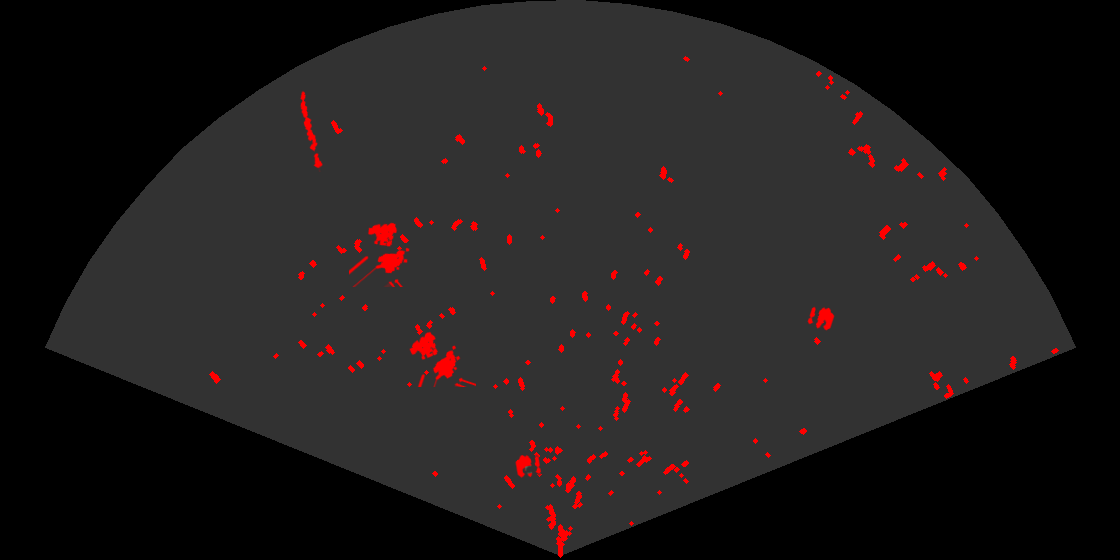ball: (806, 305, 836, 332), (514, 453, 543, 480)
cage: (349, 221, 411, 287), (408, 330, 476, 387)
chain: (299, 89, 324, 172)
